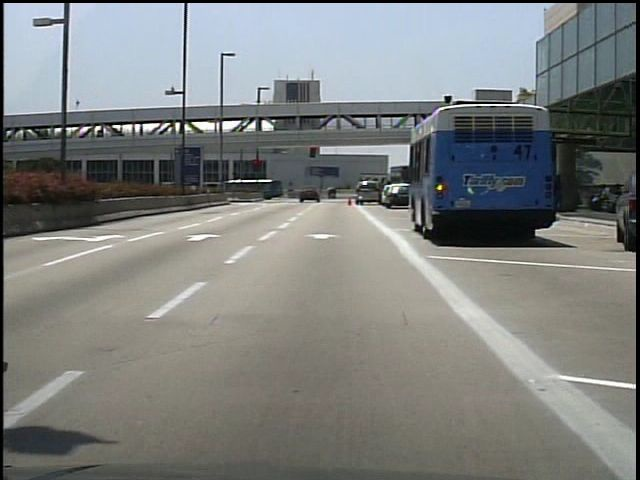person: (590, 183, 610, 210), (552, 175, 566, 210), (326, 187, 338, 201), (331, 186, 340, 201)
